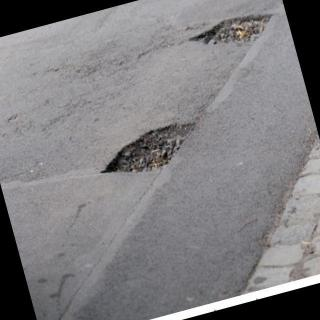pothole: (100, 124, 195, 174), (190, 14, 272, 44)
